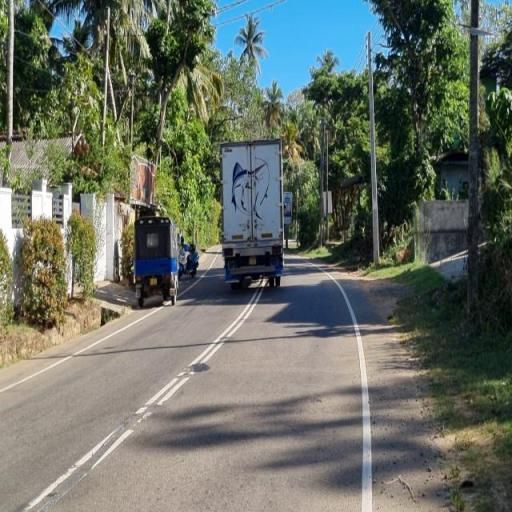double_white_line: (136, 294, 265, 422)
